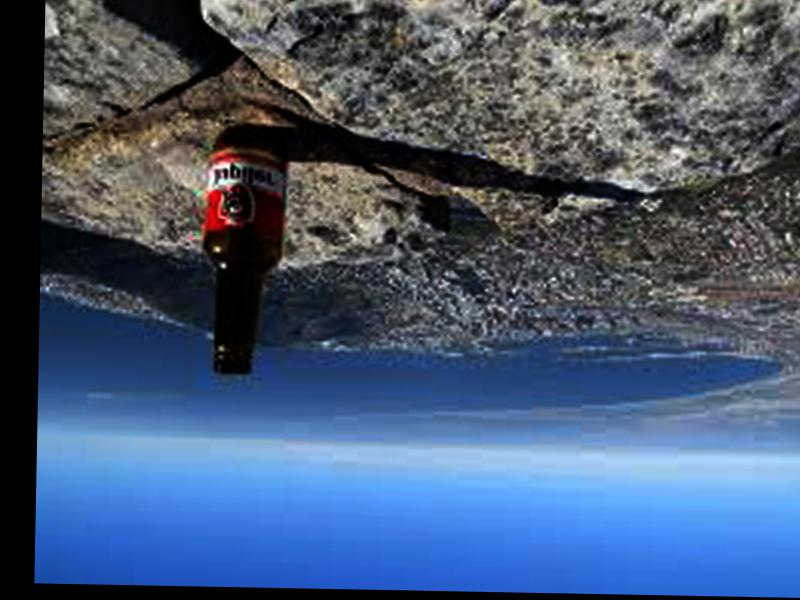Beer: (199, 134, 287, 377)
